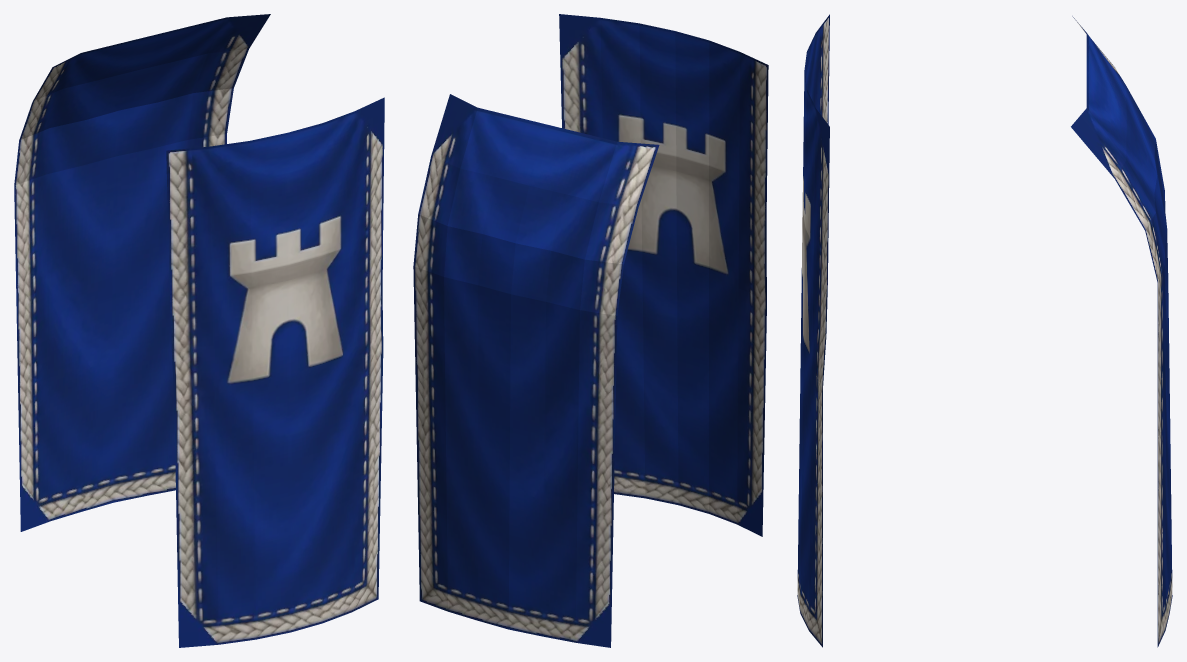
Rendered from tabard_flaps_tower.glb.
The picture shows the model from 3 angles, left to right: view 1: azimuth 30°, elevation 25°; view 2: azimuth 150°, elevation 25°; view 3: azimuth 270°, elevation 25°; orthographic projection. The views are drawn at different scales.
Parts seen in each view (by area): view 1: front, back; view 2: back, front; view 3: front, back.
Boxes of the visible parts, bbox=[...] form: front: bbox=[166, 97, 384, 647]; back: bbox=[14, 14, 270, 531]; back: bbox=[413, 94, 659, 647]; front: bbox=[559, 14, 768, 536]; front: bbox=[797, 14, 829, 647]; back: bbox=[1071, 16, 1172, 647].
Bounding box in the file's own units: 0.23 × 0.5 × 0.3231.
1 material, 1 textured.
